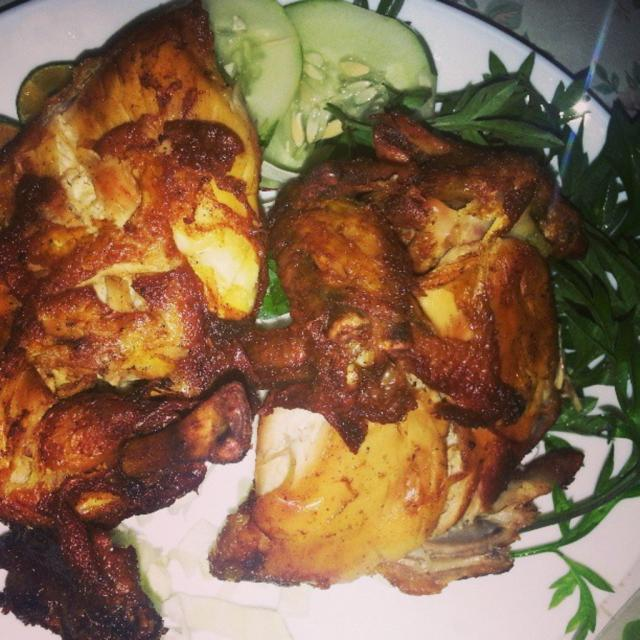Chicken: (1, 0, 585, 640)
